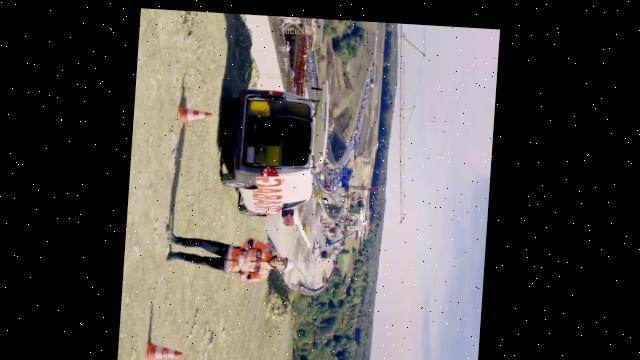drone: (349, 202, 370, 237)
